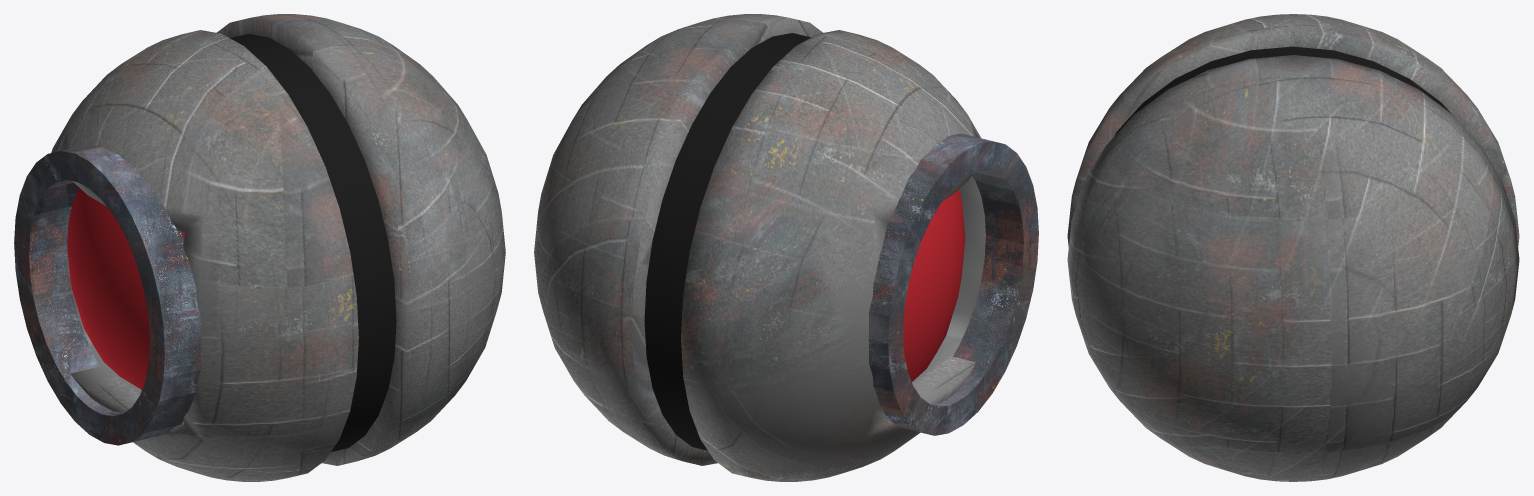
File: staysphere 1.fbx
3 views of the same model, side by side, from view 1: azimuth 30°, elevation 25°; view 2: azimuth 150°, elevation 25°; view 3: azimuth 270°, elevation 25° (orthographic).
Visible parts, largest first — view 1: Sphere.001, Circle, Sphere.002, Sphere; view 2: Sphere.001, Circle, Sphere.002, Sphere; view 3: Sphere.001, Sphere.002.
Boxes of the visible parts, x1=… form: Sphere.001: x1=33, y1=14, x2=505, y2=481; Circle: x1=14, y1=144, x2=201, y2=445; Sphere.002: x1=230, y1=34, x2=396, y2=451; Sphere: x1=67, y1=188, x2=184, y2=389; Sphere.001: x1=534, y1=14, x2=985, y2=481; Circle: x1=868, y1=133, x2=1038, y2=435; Sphere.002: x1=644, y1=33, x2=810, y2=450; Sphere: x1=903, y1=189, x2=965, y2=381; Sphere.001: x1=1067, y1=14, x2=1519, y2=481; Sphere.002: x1=1114, y1=46, x2=1450, y2=136.
Size of the model in its own units: 800 by 800 by 785.
